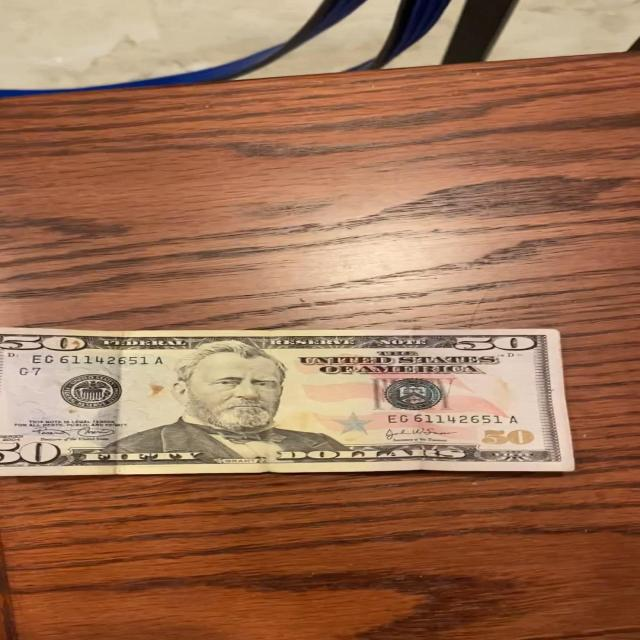50-Front: (0, 320, 593, 478)
